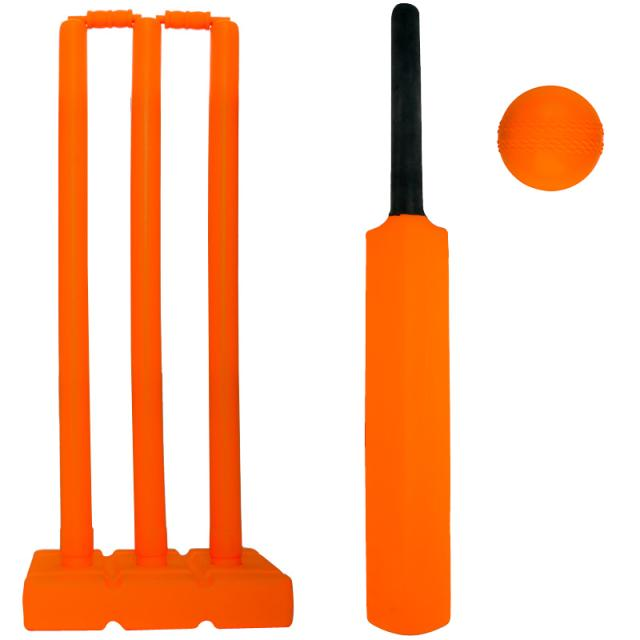stump: (57, 4, 249, 560)
